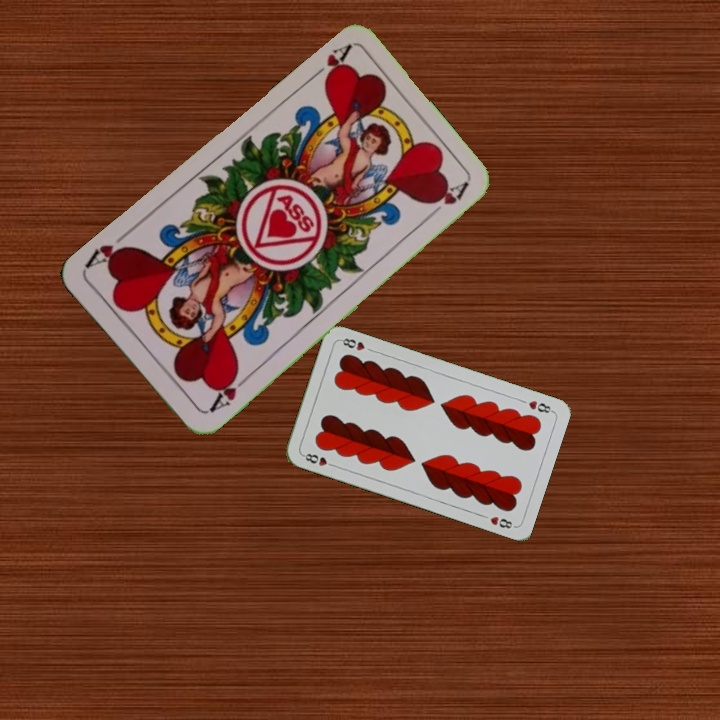H8: (299, 449, 338, 469), (524, 396, 555, 416)
HA: (201, 367, 251, 416), (303, 41, 353, 87)
